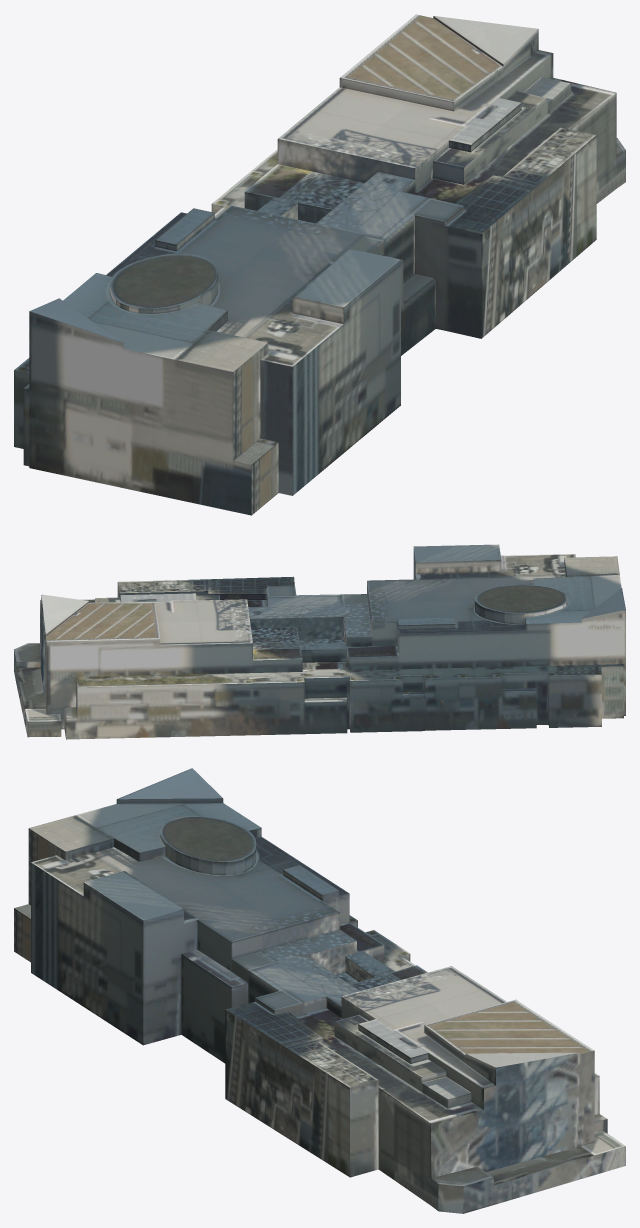
File: unityexport5.obj
The picture shows the model from 3 angles, top to bottom: view 1: azimuth 30°, elevation 25°; view 2: azimuth 150°, elevation 25°; view 3: azimuth 270°, elevation 25°; orthographic projection. The views are drawn at different scales.
Parts seen in each view (by area): view 1: Baked Mesh 354; view 2: Baked Mesh 354; view 3: Baked Mesh 354.
Boxes of the visible parts, left/top/right/bottom form: Baked Mesh 354: left=14, top=14, right=625, bottom=515; Baked Mesh 354: left=14, top=544, right=625, bottom=739; Baked Mesh 354: left=14, top=768, right=625, bottom=1213.
Size of the model in its own units: 211 by 42.35 by 175.
